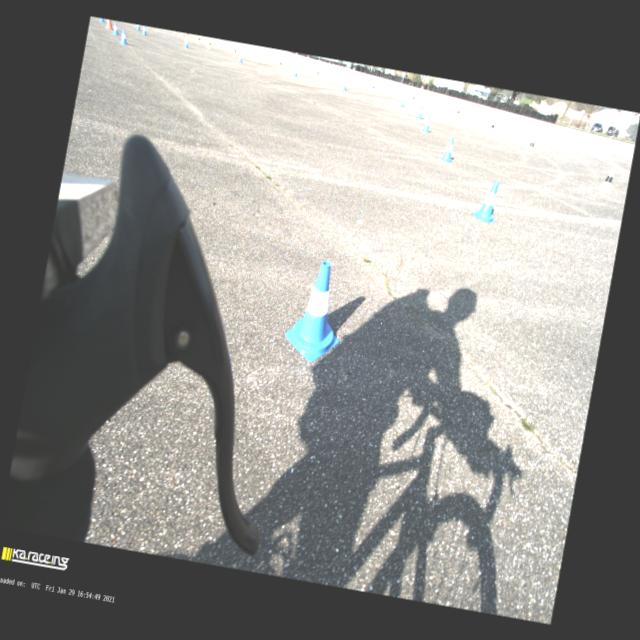blue_cone: (280, 256, 352, 366), (471, 178, 502, 222), (439, 135, 456, 163), (422, 114, 432, 132), (414, 104, 424, 120), (120, 29, 130, 45), (112, 22, 121, 35), (399, 95, 407, 107), (292, 66, 299, 78), (237, 51, 244, 63), (182, 38, 190, 48), (140, 25, 148, 35), (342, 78, 348, 90), (134, 24, 140, 30), (98, 18, 105, 22)
large_orange_cone: (104, 19, 114, 30)
yellow_cone: (597, 167, 614, 193), (524, 136, 536, 154), (488, 118, 497, 134), (454, 105, 462, 118), (369, 81, 376, 92), (409, 93, 415, 105), (315, 68, 321, 78), (232, 46, 238, 56), (206, 40, 212, 49), (196, 34, 201, 44), (277, 60, 283, 68), (184, 32, 190, 38), (179, 32, 184, 36)
